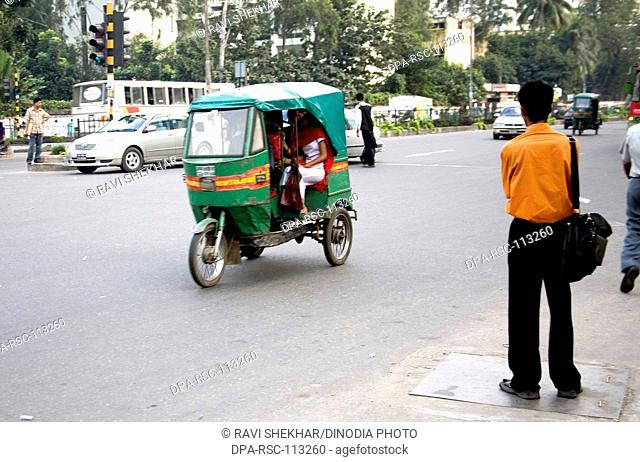auto rickshaw: (184, 81, 356, 287), (571, 92, 601, 135)
car: (66, 111, 183, 170), (492, 105, 525, 135)
